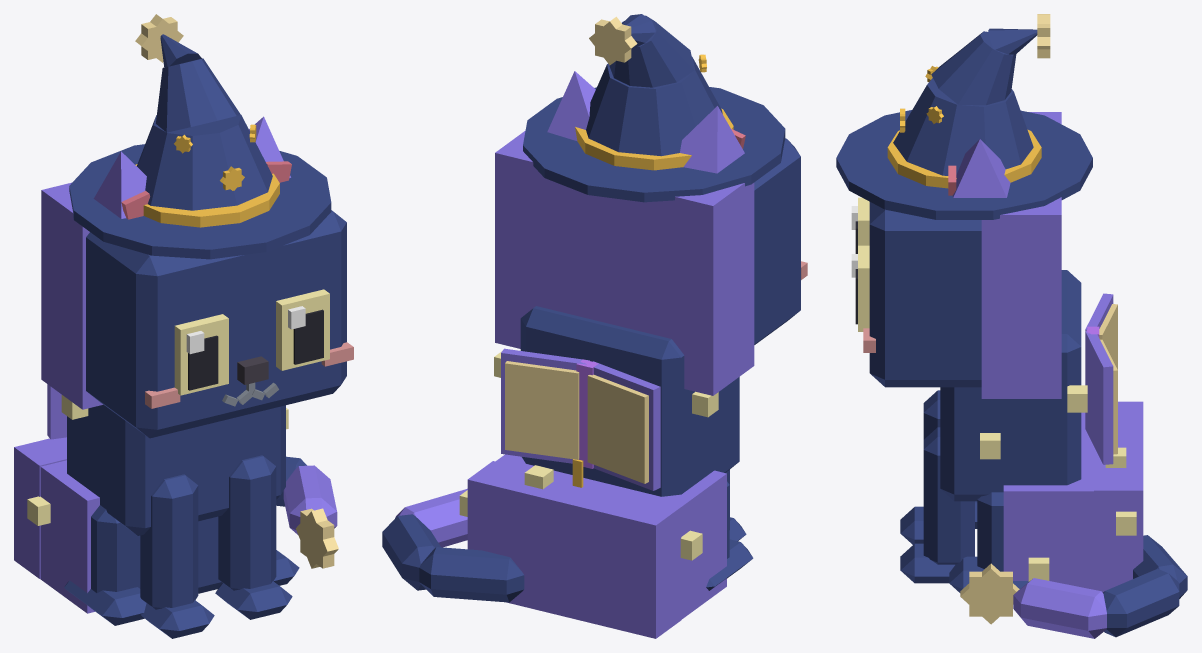
Rendered from CatCafe_Cat_Mage_Sit.glb.
3 views of the same model, side by side, from view 1: azimuth 30°, elevation 25°; view 2: azimuth 150°, elevation 25°; view 3: azimuth 270°, elevation 25° (orthographic). The views are drawn at different scales.
Parts seen in each view (by area): view 1: CatCafe_Cat_Mage_Sit_Head, CatCafe_Cat_Mage_Sit_Body, CatCafe_Cat_Mage_Sit_Prop, CatCafe_Cat_Mage_Sit_LegF1, CatCafe_Cat_Mage_Sit_LegF2, CatCafe_Cat_Mage_Sit_Eye2, CatCafe_Cat_Mage_Sit_Eye1, CatCafe_Cat_Mage_Sit_Tail, CatCafe_Cat_Mage_Sit_EarR, CatCafe_Cat_Mage_Sit_Tail_Star_Glow, CatCafe_Cat_Mage_Sit_Star_Glow, CatCafe_Cat_Mage_Sit_EarL (+1 smaller); view 2: CatCafe_Cat_Mage_Sit_Body, CatCafe_Cat_Mage_Sit_Head, CatCafe_Cat_Mage_Sit_Prop, CatCafe_Cat_Mage_Sit_Page_Glow, CatCafe_Cat_Mage_Sit_Tail, CatCafe_Cat_Mage_Sit_Prop2, CatCafe_Cat_Mage_Sit_EarR, CatCafe_Cat_Mage_Sit_EarL, CatCafe_Cat_Mage_Sit_Star_Glow; view 3: CatCafe_Cat_Mage_Sit_Body, CatCafe_Cat_Mage_Sit_Head, CatCafe_Cat_Mage_Sit_Prop, CatCafe_Cat_Mage_Sit_Tail, CatCafe_Cat_Mage_Sit_LegF1, CatCafe_Cat_Mage_Sit_Prop2, CatCafe_Cat_Mage_Sit_EarL, CatCafe_Cat_Mage_Sit_Tail_Star_Glow, CatCafe_Cat_Mage_Sit_LegF2, CatCafe_Cat_Mage_Sit_Eye1, CatCafe_Cat_Mage_Sit_Page_Glow, CatCafe_Cat_Mage_Sit_Eye2 (+1 smaller).
Part boxes in pixels (bbox=[...]): CatCafe_Cat_Mage_Sit_Head: bbox=[41, 182, 353, 438]; CatCafe_Cat_Mage_Sit_Body: bbox=[14, 395, 299, 625]; CatCafe_Cat_Mage_Sit_Prop: bbox=[69, 34, 331, 259]; CatCafe_Cat_Mage_Sit_LegF1: bbox=[215, 455, 292, 619]; CatCafe_Cat_Mage_Sit_LegF2: bbox=[140, 474, 214, 638]; CatCafe_Cat_Mage_Sit_Eye2: bbox=[174, 314, 228, 395]; CatCafe_Cat_Mage_Sit_Eye1: bbox=[276, 289, 329, 370]; CatCafe_Cat_Mage_Sit_Tail: bbox=[276, 456, 337, 534]; CatCafe_Cat_Mage_Sit_EarR: bbox=[93, 151, 150, 219]; CatCafe_Cat_Mage_Sit_Tail_Star_Glow: bbox=[296, 508, 338, 568]; CatCafe_Cat_Mage_Sit_Star_Glow: bbox=[135, 14, 183, 62]; CatCafe_Cat_Mage_Sit_EarL: bbox=[249, 116, 291, 182]; CatCafe_Cat_Mage_Sit_Body: bbox=[459, 306, 753, 638]; CatCafe_Cat_Mage_Sit_Head: bbox=[495, 130, 807, 395]; CatCafe_Cat_Mage_Sit_Prop: bbox=[523, 14, 785, 202]; CatCafe_Cat_Mage_Sit_Page_Glow: bbox=[505, 361, 648, 483]; CatCafe_Cat_Mage_Sit_Tail: bbox=[382, 488, 524, 602]; CatCafe_Cat_Mage_Sit_Prop2: bbox=[501, 348, 660, 490]; CatCafe_Cat_Mage_Sit_EarR: bbox=[680, 106, 745, 173]; CatCafe_Cat_Mage_Sit_EarL: bbox=[547, 71, 595, 140]; CatCafe_Cat_Mage_Sit_Star_Glow: bbox=[589, 16, 637, 65]; CatCafe_Cat_Mage_Sit_Body: bbox=[940, 270, 1143, 592]; CatCafe_Cat_Mage_Sit_Head: bbox=[863, 112, 1061, 398]; CatCafe_Cat_Mage_Sit_Prop: bbox=[836, 28, 1092, 219]; CatCafe_Cat_Mage_Sit_Tail: bbox=[1013, 535, 1187, 638]; CatCafe_Cat_Mage_Sit_LegF1: bbox=[900, 427, 974, 583]; CatCafe_Cat_Mage_Sit_Prop2: bbox=[1085, 293, 1113, 464]; CatCafe_Cat_Mage_Sit_EarL: bbox=[948, 139, 1010, 197]; CatCafe_Cat_Mage_Sit_Tail_Star_Glow: bbox=[960, 563, 1019, 624]; CatCafe_Cat_Mage_Sit_LegF2: bbox=[900, 390, 940, 544]; CatCafe_Cat_Mage_Sit_Eye1: bbox=[851, 245, 869, 331]; CatCafe_Cat_Mage_Sit_Page_Glow: bbox=[1099, 304, 1117, 454]; CatCafe_Cat_Mage_Sit_Eye2: bbox=[851, 197, 869, 253].
Bounding box in the file's own units: 1.27 × 2.23 × 1.3.
Materials: 1 (1 with a texture image).
